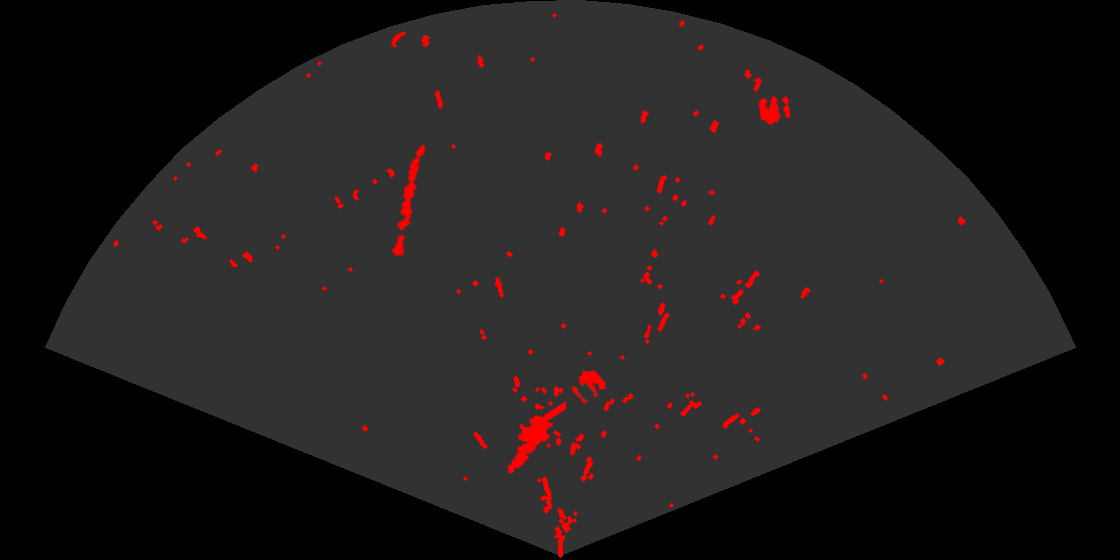ball: (570, 369, 607, 405), (757, 94, 792, 126)
chain: (389, 143, 428, 259)
frogman: (506, 402, 566, 475)
